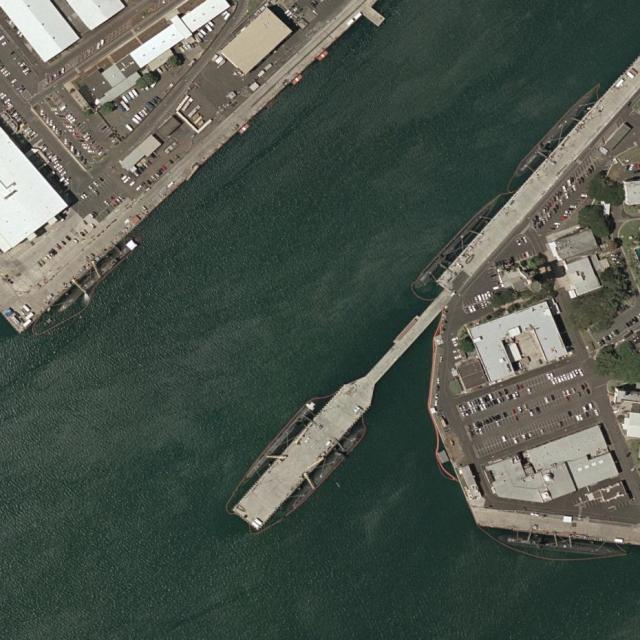Dock: (235, 297, 445, 525)
Submarine: (513, 81, 605, 178), (410, 202, 494, 292), (288, 423, 368, 512), (241, 394, 318, 480), (54, 239, 136, 315), (498, 535, 628, 557)
